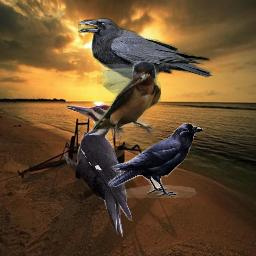Crow: (78, 18, 213, 118), (108, 123, 203, 198)
Swallow: (92, 61, 161, 140)
Woodpecker: (64, 105, 133, 237)
